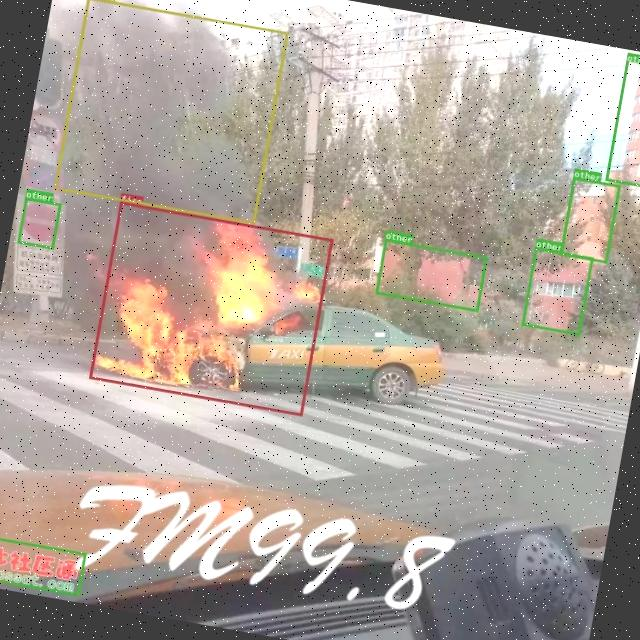fire: (88, 200, 332, 415)
smoke: (52, 0, 287, 223)
